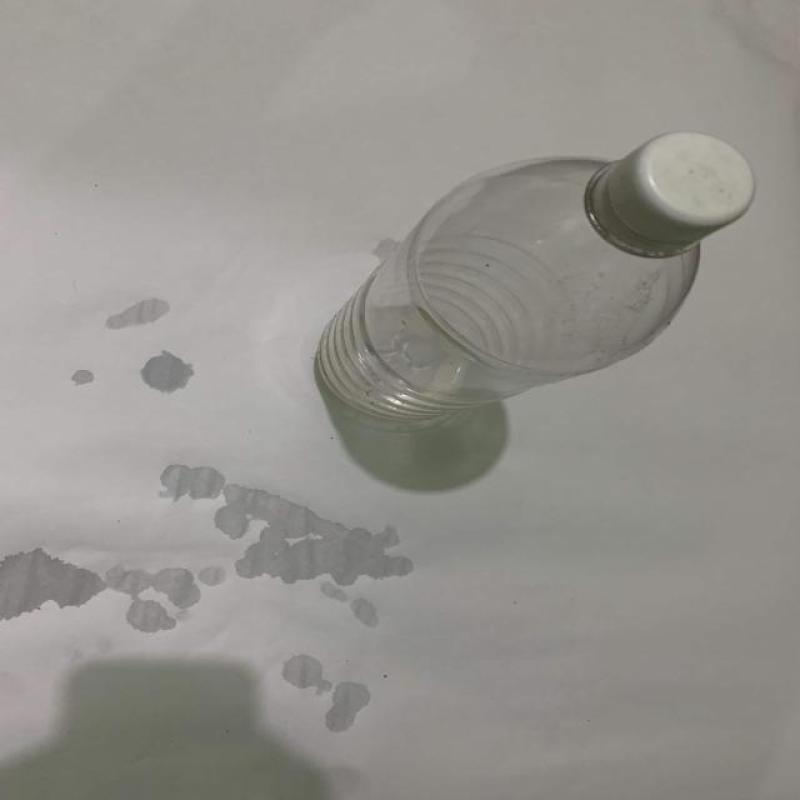botella: (316, 135, 756, 435)
